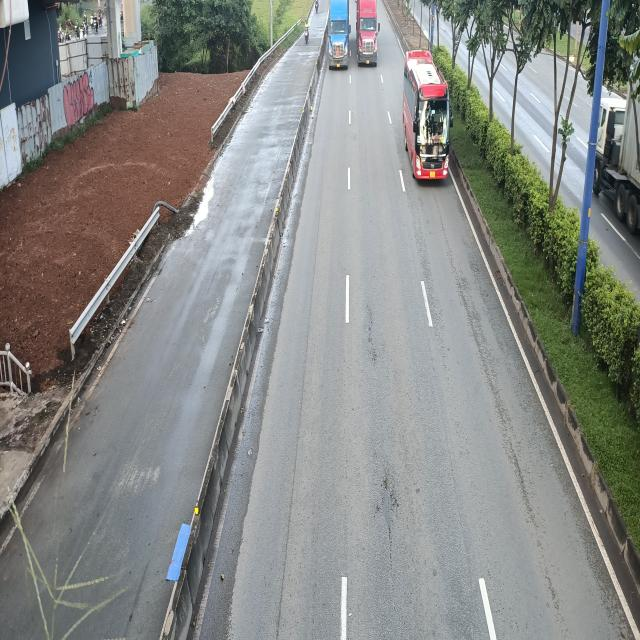coach: (405, 51, 455, 185)
container: (328, 2, 352, 72), (355, 1, 379, 68)
